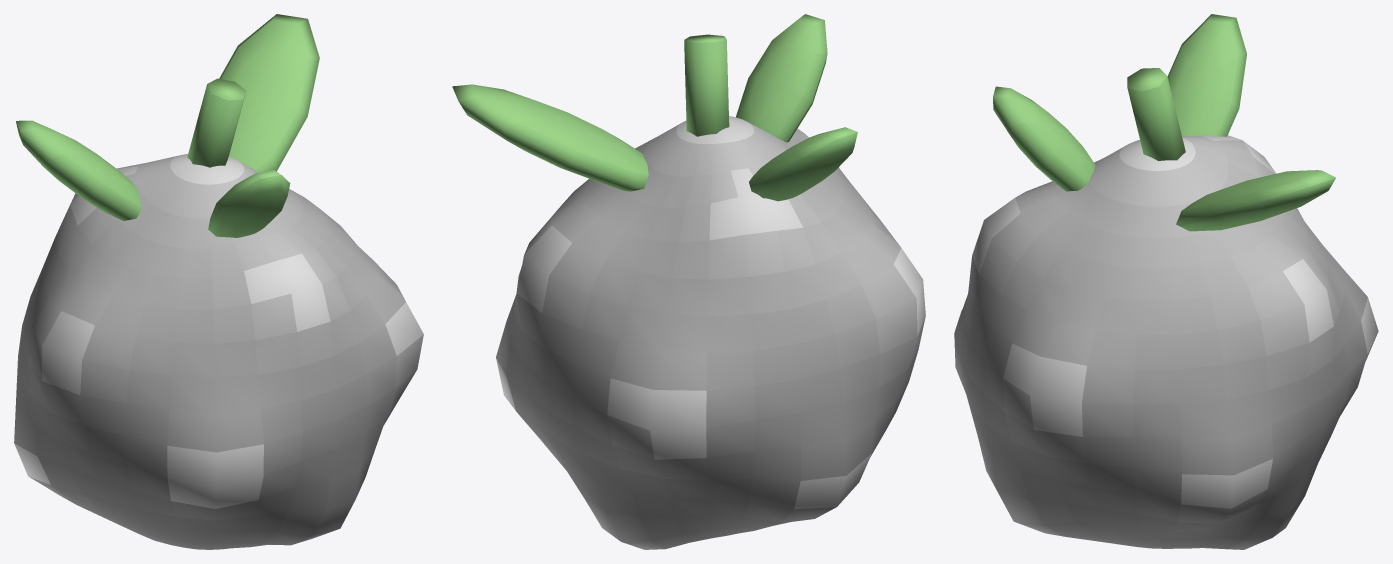
File: Berries.glb
3 views of the same model, side by side, from view 1: azimuth 30°, elevation 25°; view 2: azimuth 150°, elevation 25°; view 3: azimuth 270°, elevation 25° (orthographic). The views are drawn at different scales.
Parts seen in each view (by area): view 1: Berries, BerryGreens; view 2: Berries, BerryGreens; view 3: Berries, BerryGreens.
Part boxes in pixels (x1,y1,x2,y2): Berries: (14,154,423,549); BerryGreens: (16,14,319,237); Berries: (496,116,925,549); BerryGreens: (452,14,857,201); Berries: (954,135,1378,549); BerryGreens: (993,14,1335,231).
Bounding box in the file's own units: 0.9816 × 1.2 × 0.9901.
